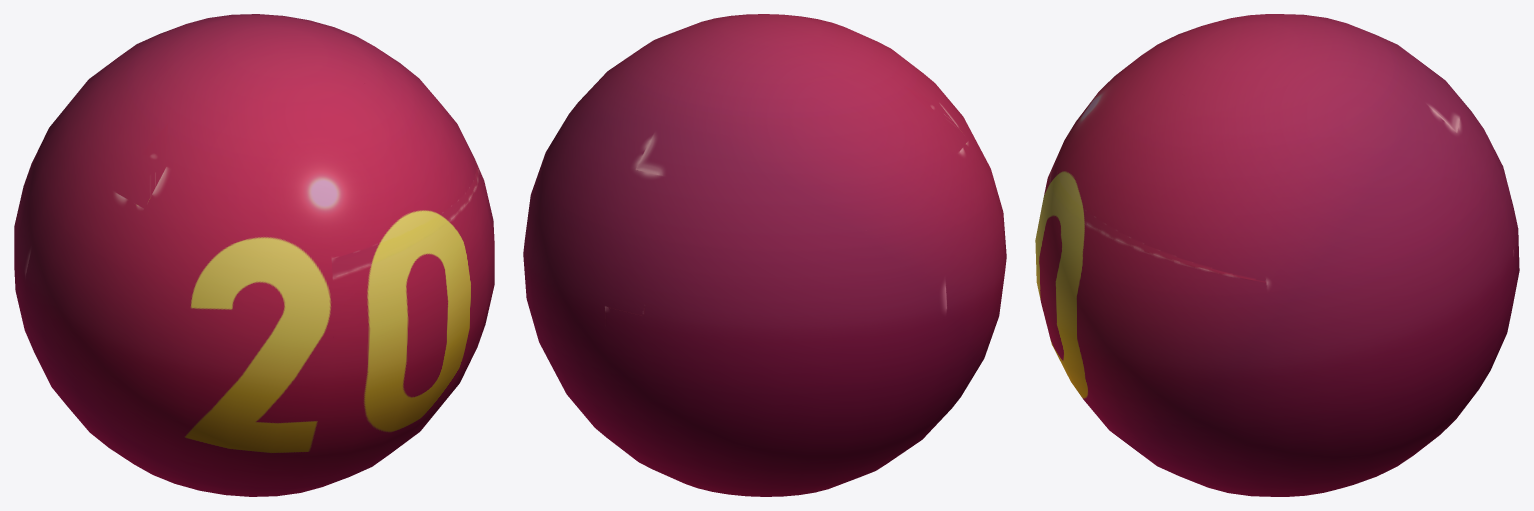
Rendered from Enemy 20.fbx.
3 renders of one model, left to right at view 1: azimuth 30°, elevation 25°; view 2: azimuth 150°, elevation 25°; view 3: azimuth 270°, elevation 25°, orthographic.
Visible parts, largest first — view 1: Body 1.019; view 2: Body 1.019; view 3: Body 1.019.
Boxes of the visible parts, bbox=[...] form: Body 1.019: bbox=[14, 14, 494, 496]; Body 1.019: bbox=[523, 14, 1006, 496]; Body 1.019: bbox=[1035, 14, 1519, 496].
Size of the model in its own units: 474 by 474 by 474.
Materials: 1 (1 with a texture image).
